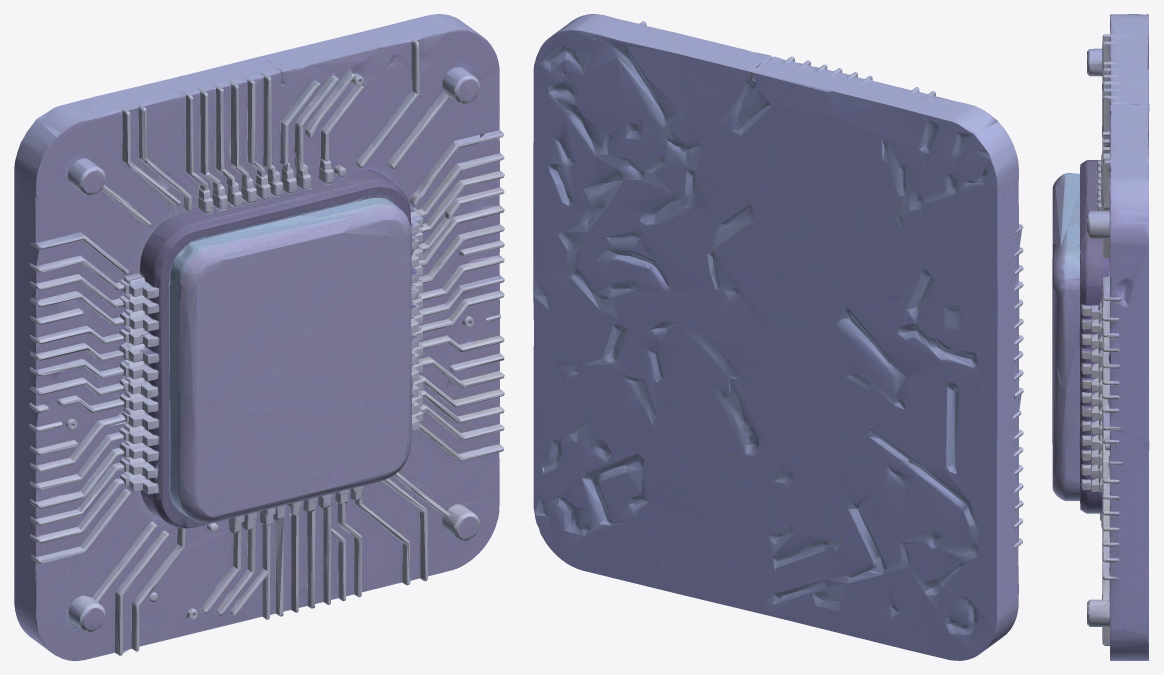
Rendered from chip.glb.
The picture shows the model from 3 angles, left to right: view 1: azimuth 30°, elevation 25°; view 2: azimuth 150°, elevation 25°; view 3: azimuth 270°, elevation 25°; orthographic projection. The views are drawn at different scales.
Bounding box in the file's own units: 1.72 × 1.9 × 0.3472.
Materials: 1 (1 with a texture image).
